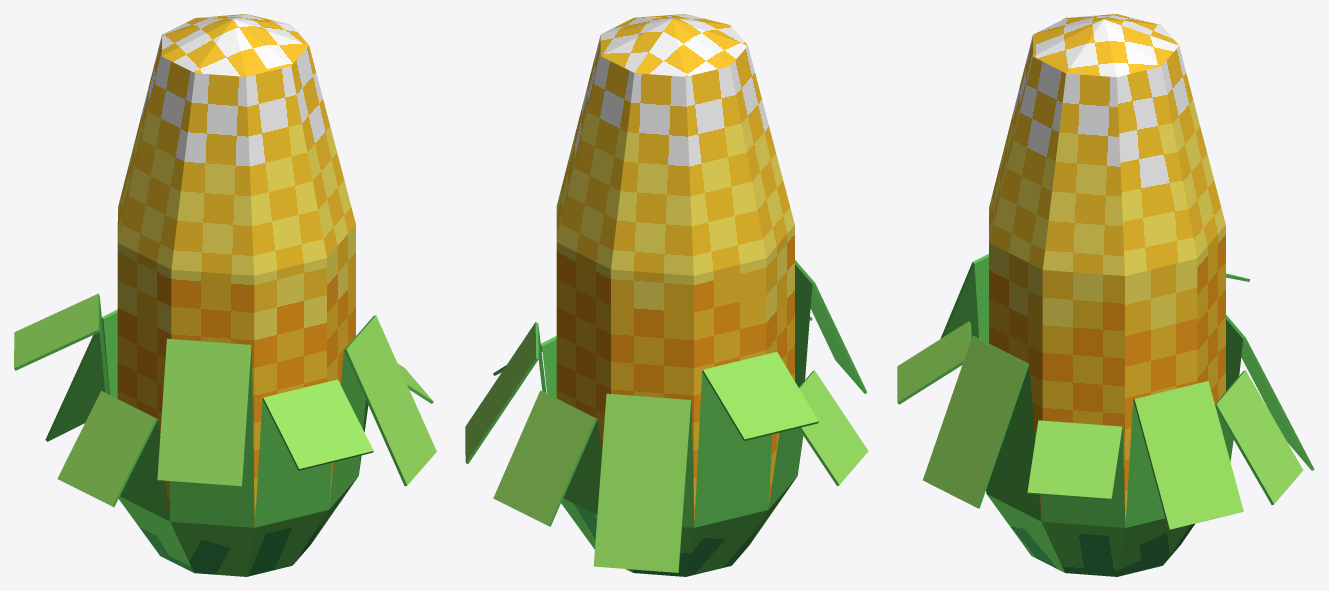
The model's file is corn.fbx.
3 views of the same model, side by side, from view 1: azimuth 30°, elevation 25°; view 2: azimuth 150°, elevation 25°; view 3: azimuth 270°, elevation 25° (orthographic).
Parts seen in each view (by area): view 1: sphere; view 2: sphere; view 3: sphere.
Part boxes in pixels (left/top/right/bottom): sphere: left=14, top=14, right=436, bottom=576; sphere: left=465, top=14, right=868, bottom=576; sphere: left=897, top=14, right=1314, bottom=576.
Bounding box in the file's own units: 84.92 × 126 × 85.67.
1 material, 1 textured.
